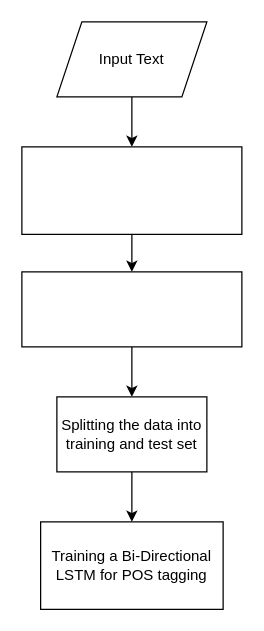
Some shapes in this 264 by 631 pixel diagram are drawn without their labels. The shapes that lost their labels are listed below. From the top down, each one's centre as x and y in pixels, then its label:
At point 131,190: "Processing the Image and extracting the sentences and POS from the Input Data".
At point 131,309: "Encoding the sentences and POS tags into numerical data".
